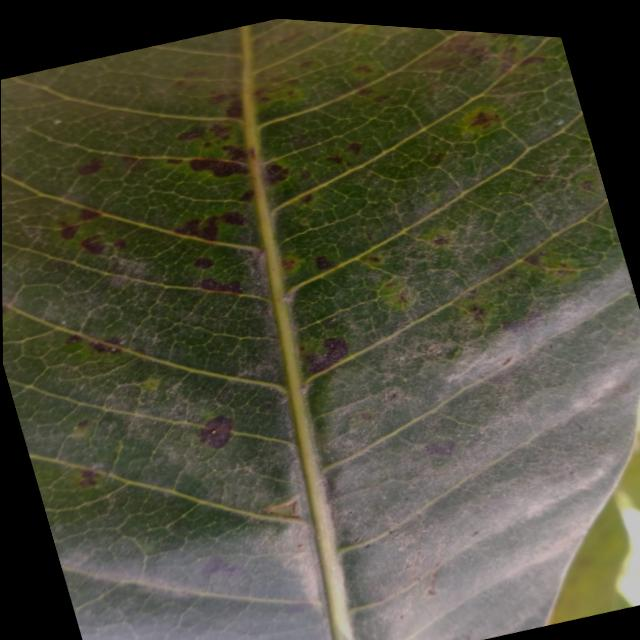black die: (180, 394, 242, 464), (298, 330, 353, 377), (454, 99, 503, 141), (197, 550, 244, 593), (185, 153, 248, 181), (499, 307, 545, 342), (174, 216, 218, 241), (192, 275, 242, 296), (77, 232, 107, 260), (88, 335, 122, 358), (423, 561, 444, 598), (74, 155, 105, 179), (210, 381, 235, 408), (219, 142, 249, 164), (174, 124, 205, 145), (206, 117, 232, 142), (309, 250, 335, 275), (196, 214, 219, 242), (217, 208, 250, 227), (522, 245, 548, 269), (261, 162, 288, 185), (206, 86, 235, 106), (75, 205, 102, 226), (422, 439, 455, 456), (464, 302, 488, 324), (191, 252, 215, 273), (173, 218, 199, 235), (279, 252, 299, 274), (120, 155, 144, 173), (517, 53, 546, 67), (236, 187, 256, 207), (78, 468, 98, 488), (343, 138, 363, 156), (58, 221, 78, 239), (225, 99, 242, 119), (295, 166, 313, 184), (73, 416, 92, 431), (182, 69, 207, 80), (371, 92, 390, 106), (63, 333, 83, 346), (324, 152, 344, 165), (297, 191, 314, 205), (353, 85, 374, 96), (429, 234, 448, 245), (577, 179, 593, 192), (111, 236, 126, 249), (353, 64, 372, 74), (165, 155, 183, 165), (297, 60, 311, 68), (2, 304, 7, 314)
